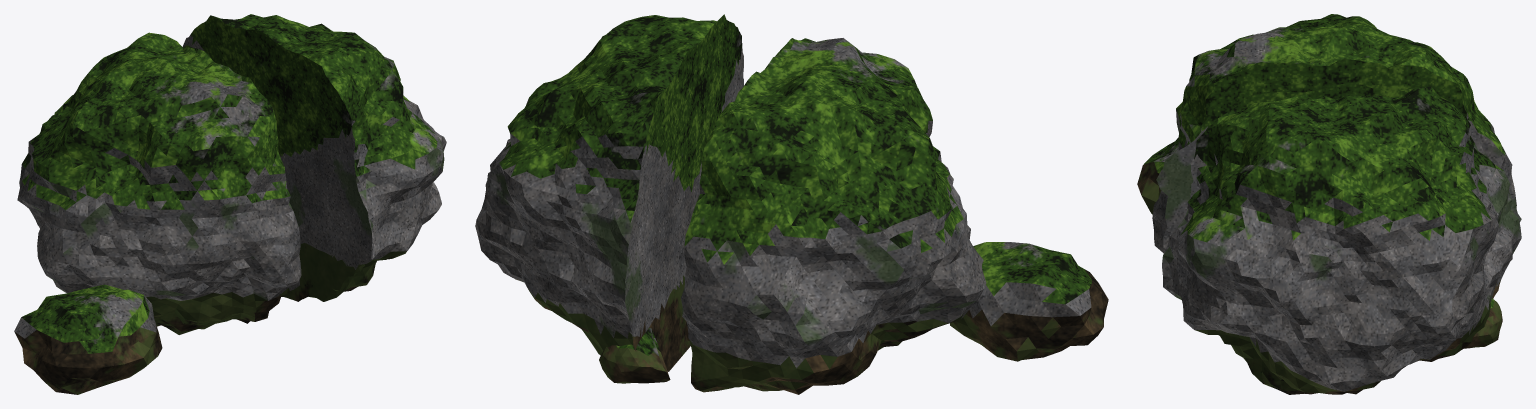
Rendered from Boulder_Granite_Split.glb.
The picture shows the model from 3 angles, left to right: view 1: azimuth 30°, elevation 25°; view 2: azimuth 150°, elevation 25°; view 3: azimuth 270°, elevation 25°; orthographic projection. The views are drawn at different scales.
Parts seen in each view (by area): view 1: Boulder_Granite_Split__Stone; view 2: Boulder_Granite_Split__Stone; view 3: Boulder_Granite_Split__Stone.
Boxes of the visible parts, bbox=[...] form: Boulder_Granite_Split__Stone: bbox=[14, 14, 446, 394]; Boulder_Granite_Split__Stone: bbox=[475, 14, 1108, 394]; Boulder_Granite_Split__Stone: bbox=[1137, 14, 1521, 394].
Bounding box in the file's own units: 13.25 × 7.24 × 8.88.
Materials: 1 (1 with a texture image).
